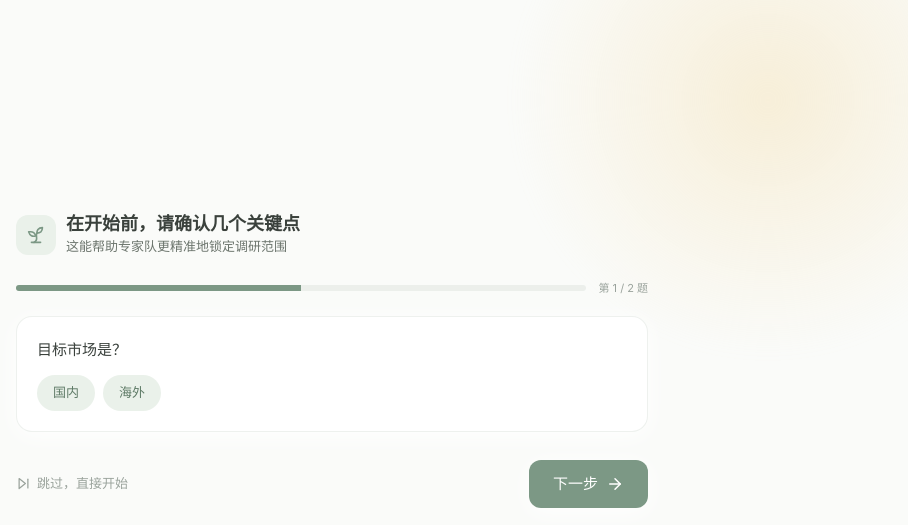
Test: T-AutoAdvance 自动前进（单选 + 多选） › TC-AA1 单选选中后延时自动进入下一题（无需点下一步）
Expected: the text "目标市场是？" is shown, top-left (37, 340), bottom-right (127, 359)
Expected: the text "最看重哪些维度？" is not shown
选中单选选项 → 不应立即跳（视觉锁定 350ms）
Step 1. Click the button "国内" → (66, 392), box top-left (37, 374), bottom-right (95, 410)
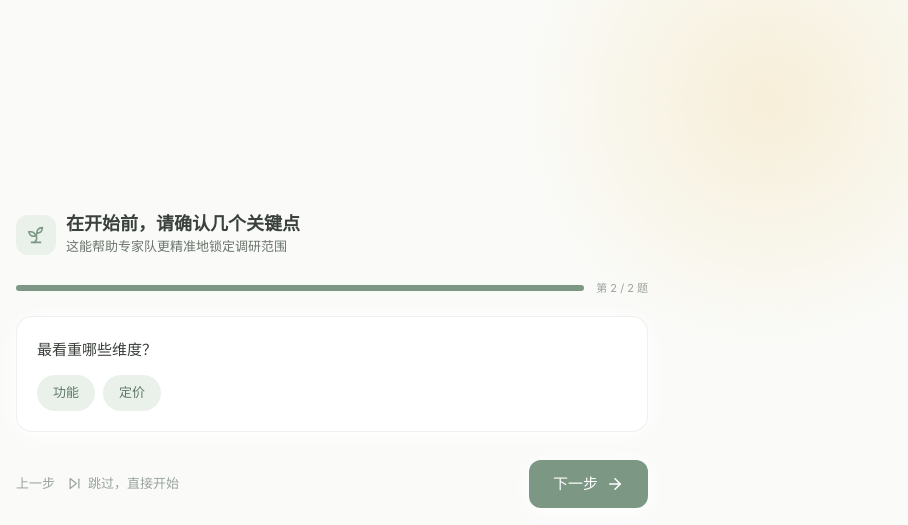
Expected: the text "最看重哪些维度？" is shown, top-left (37, 340), bottom-right (157, 359)
Expected: the text "目标市场是？" is gone
